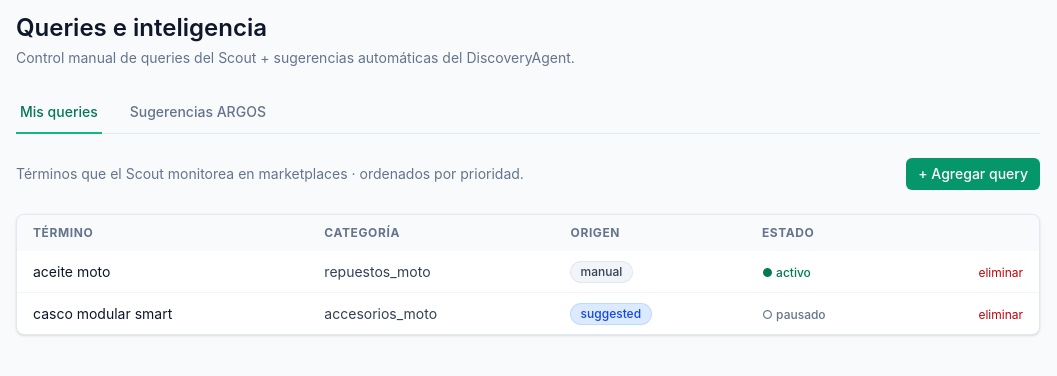
Test: ConfigQueriesPage › renderiza tabla de queries con badges origin · cambia tab a sugerencias
The width and height of the screenshot is (1057, 376).
Expected: the table with test id "queries-table" is shown, left=17, top=215, right=1039, bottom=334
Expected: the number of rows with test id "query-row" is 2, left=17, top=251, right=1039, bottom=292; left=17, top=292, right=1039, bottom=334
Cambia a tab Sugerencias
What coordinates should you click on to do the following:
click the button "Sugerencias ARGOS"
I would click on:
 (198, 113)
Its box is left=126, top=92, right=270, bottom=134.
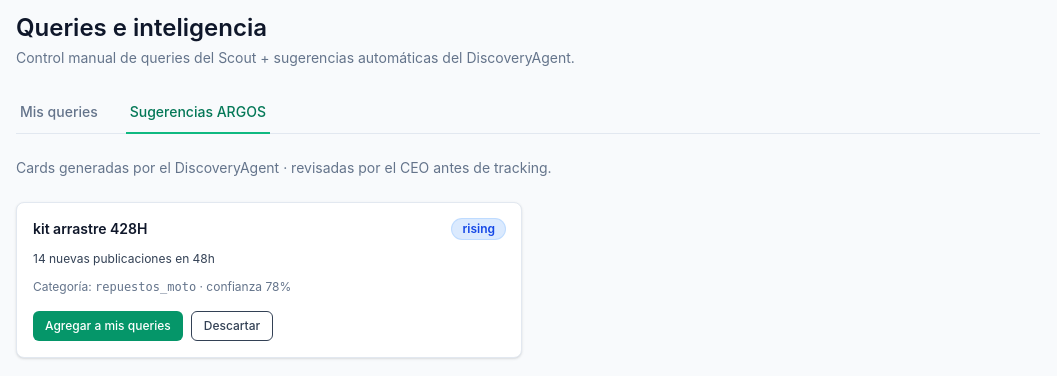
Now the number of elements with test id "suggestion-card" is 1, box left=16, top=202, right=522, bottom=358
Now the heading "kit arrastre 428H" is shown, box left=33, top=219, right=148, bottom=239
Now the text "rising" is shown, box left=452, top=219, right=505, bottom=239
